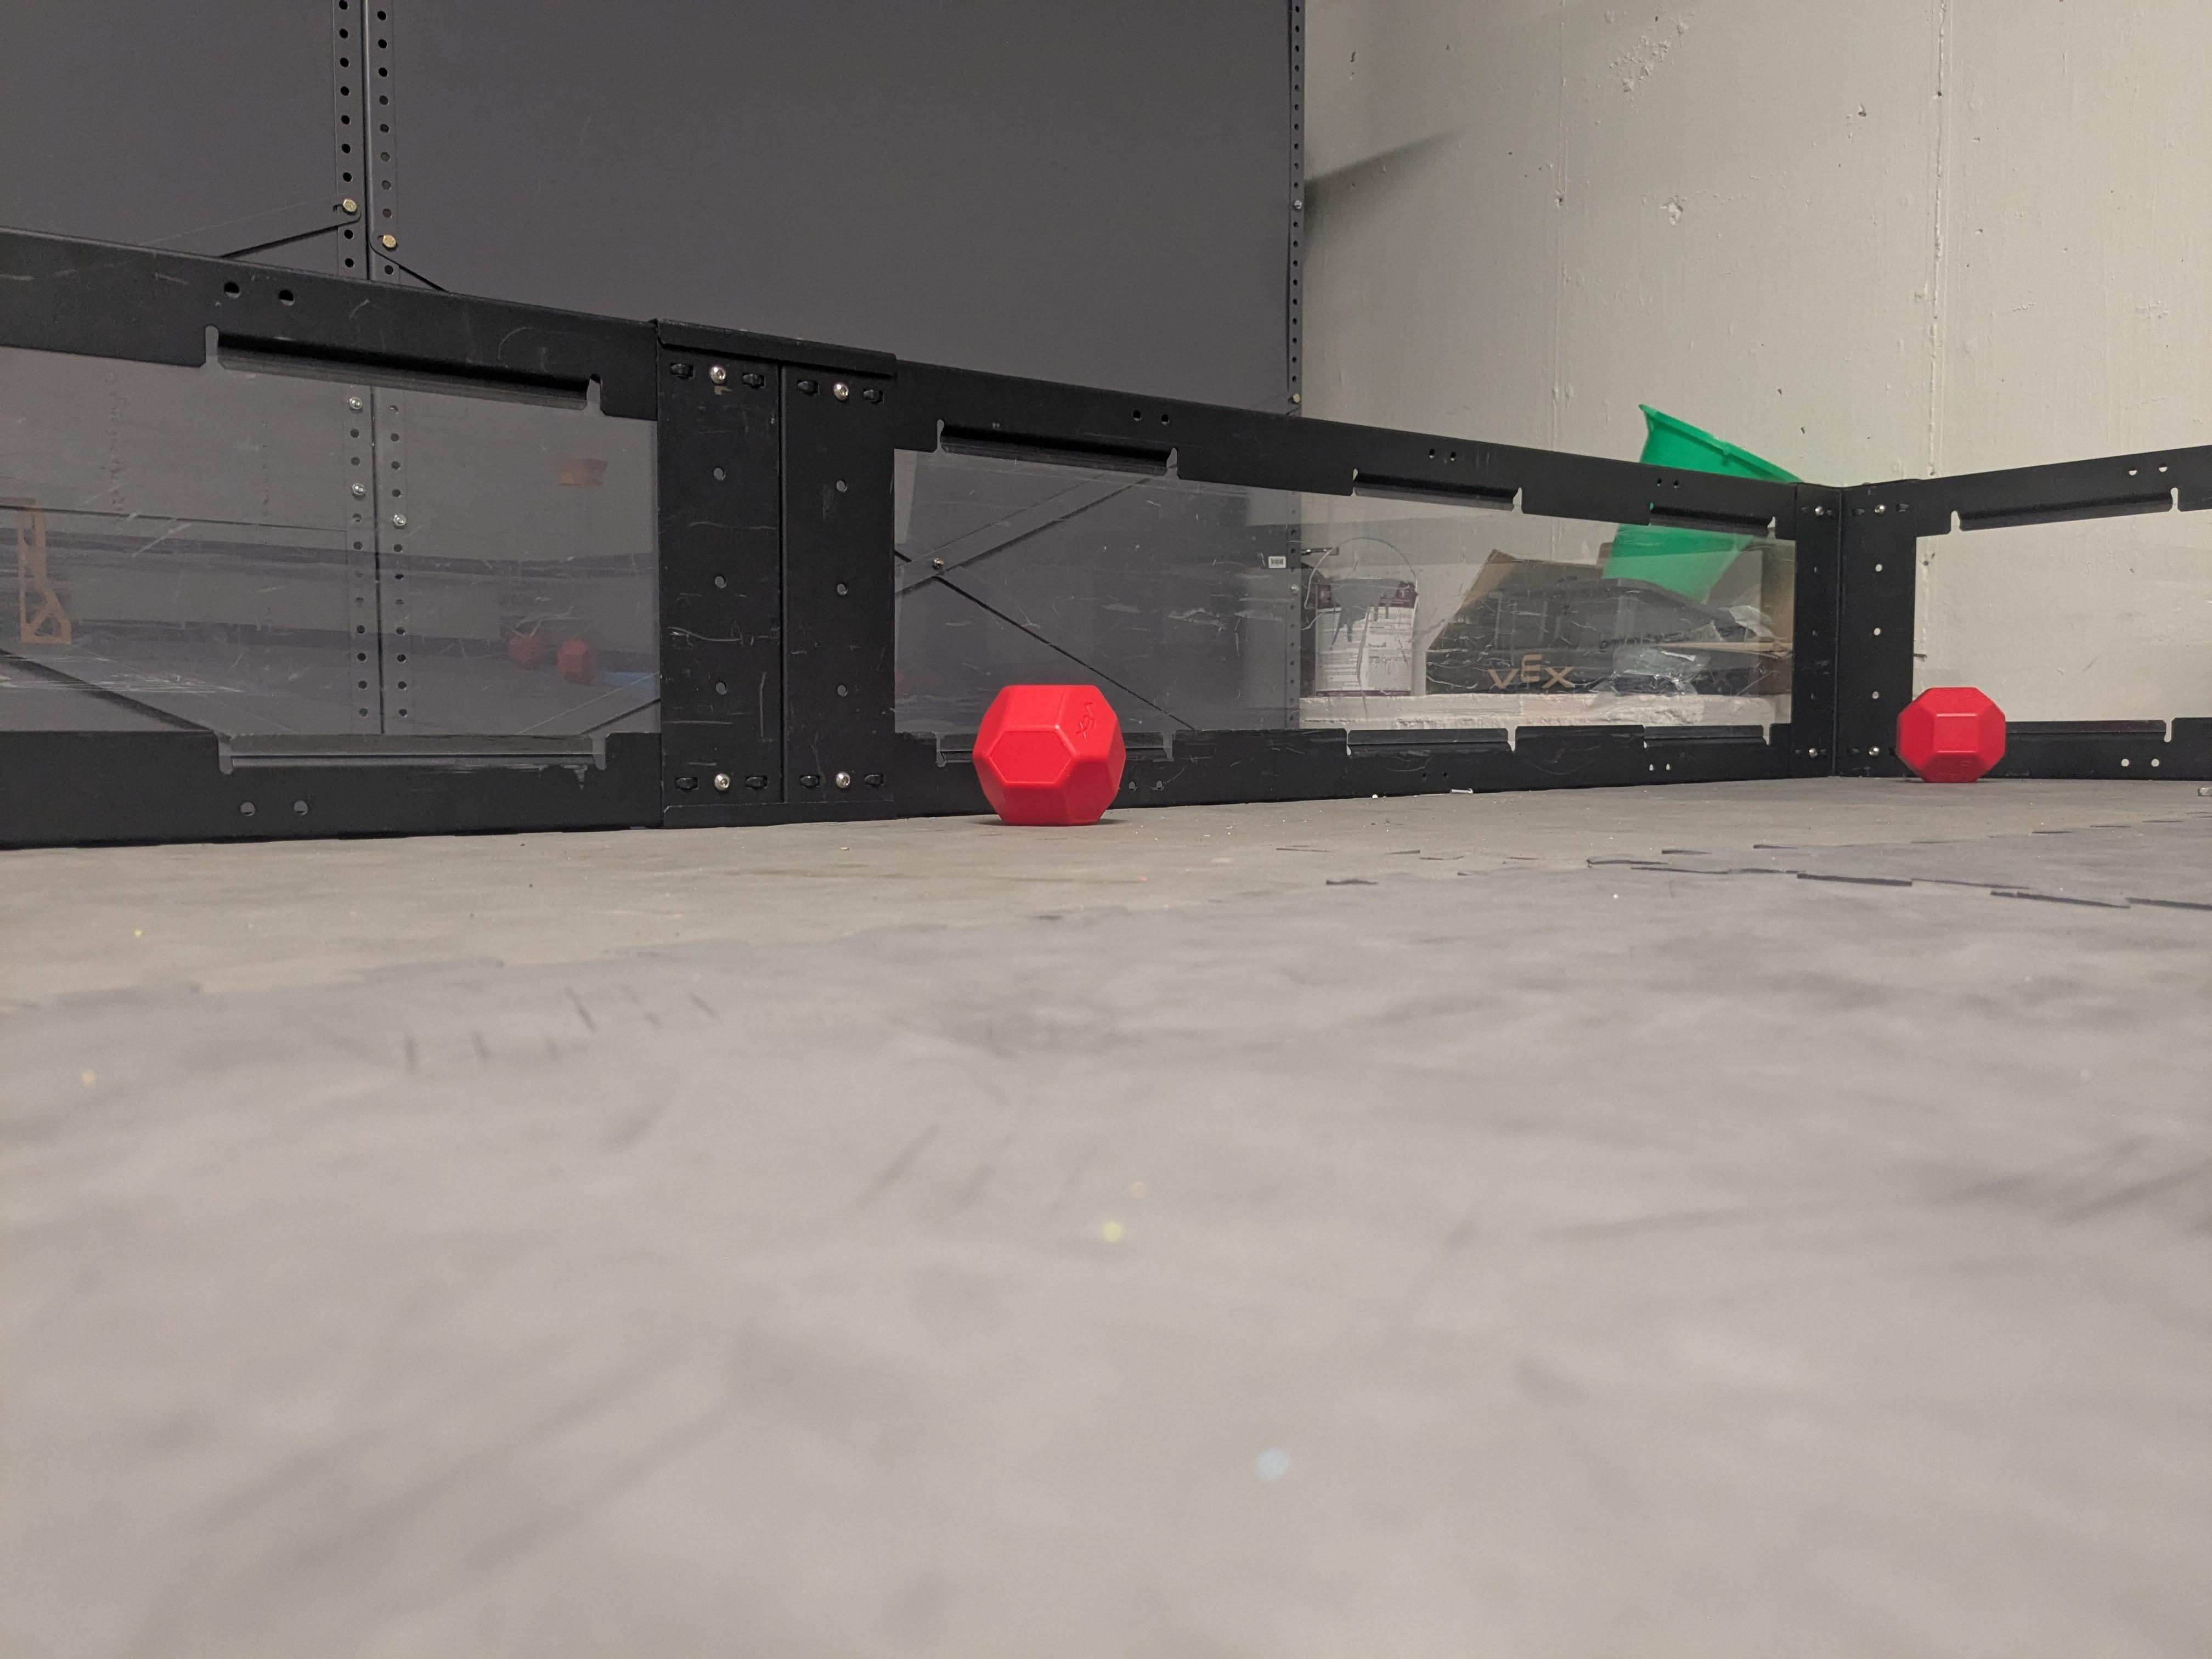Vex-Pieces-RED: (981, 685, 1127, 824), (1897, 687, 2006, 782)
